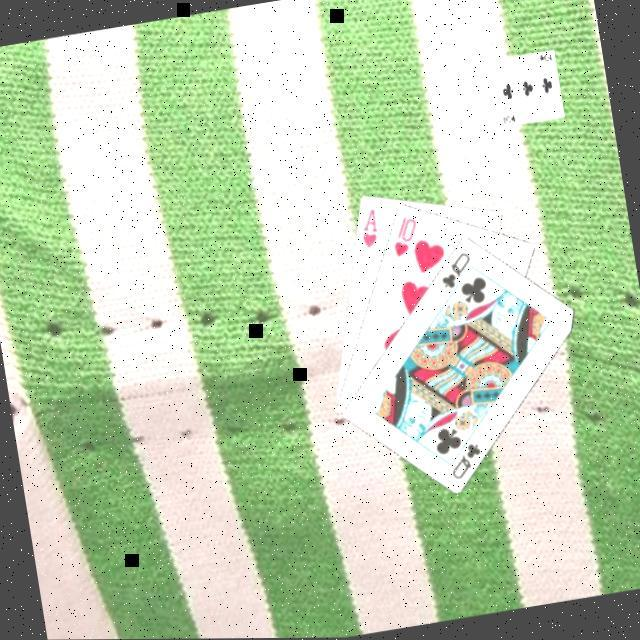10H: (386, 210, 426, 260)
AH: (355, 204, 385, 252)
QC: (434, 247, 478, 292), (445, 438, 489, 482)
